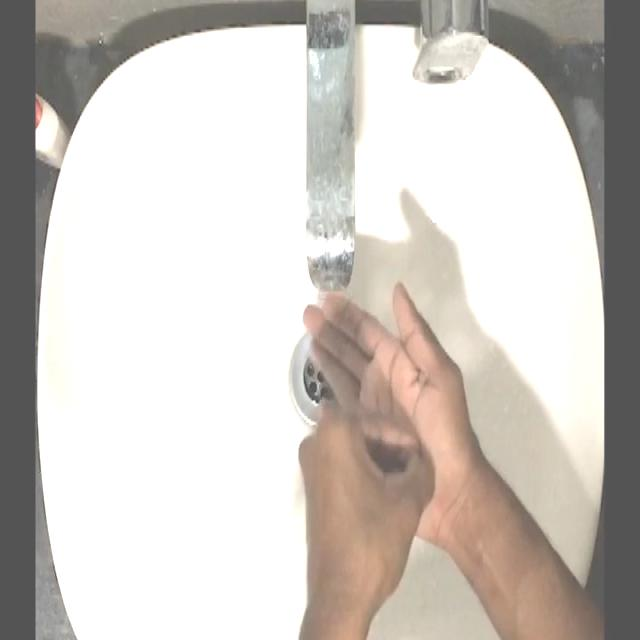step_6: (273, 280, 475, 598)
